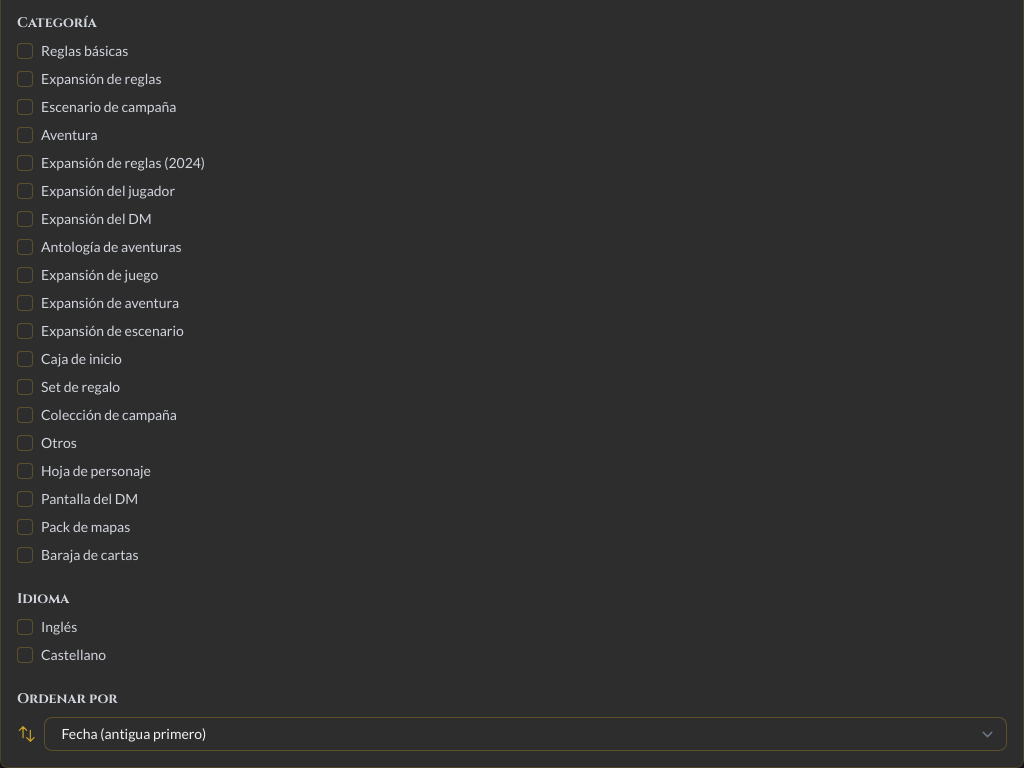
Scenario: FilterPanel › marcar un filtro lo guarda en el store y muestra el contador
The width and height of the screenshot is (1024, 768).
(page scrolled)
Click the checkbox labelled "Castellano": (25, 655) x1=17 y1=647 x2=33 y2=663
(page scrolled)
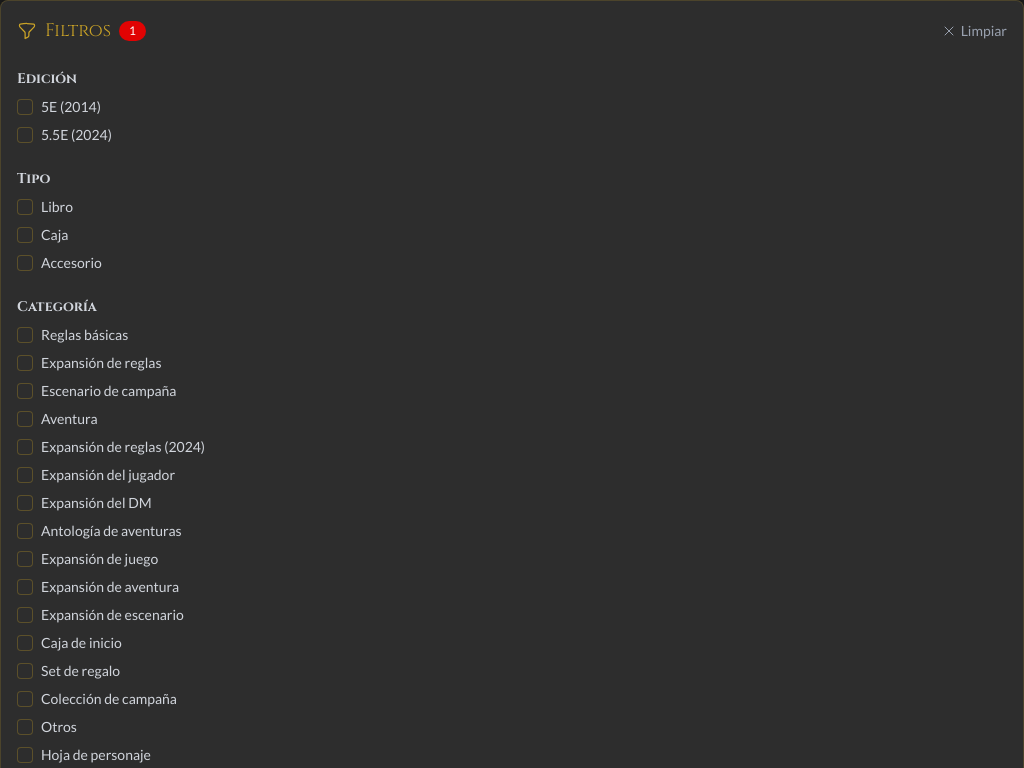
Check: the text "1" is shown, box x1=119 y1=21 x2=146 y2=41
Check: the button with aria-label "Limpiar filtros" is shown, box x1=941 y1=21 x2=1007 y2=41
